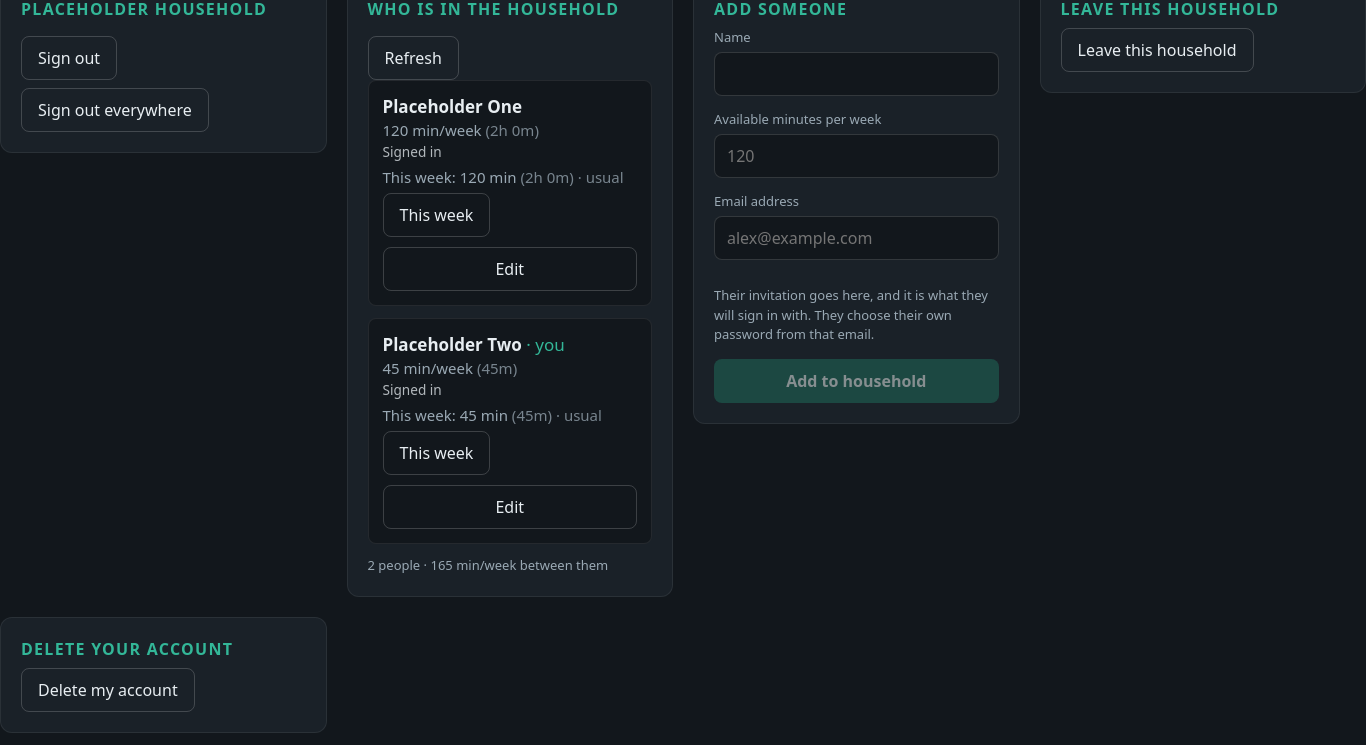
Test case: deleting your account from the Who tab (#432) › touches nothing on the first tap, and says when the sign-in goes
The image size is (1366, 745).
Click the button "Delete my account" at (108, 690), box left=21, top=668, right=195, bottom=712
(page scrolled)
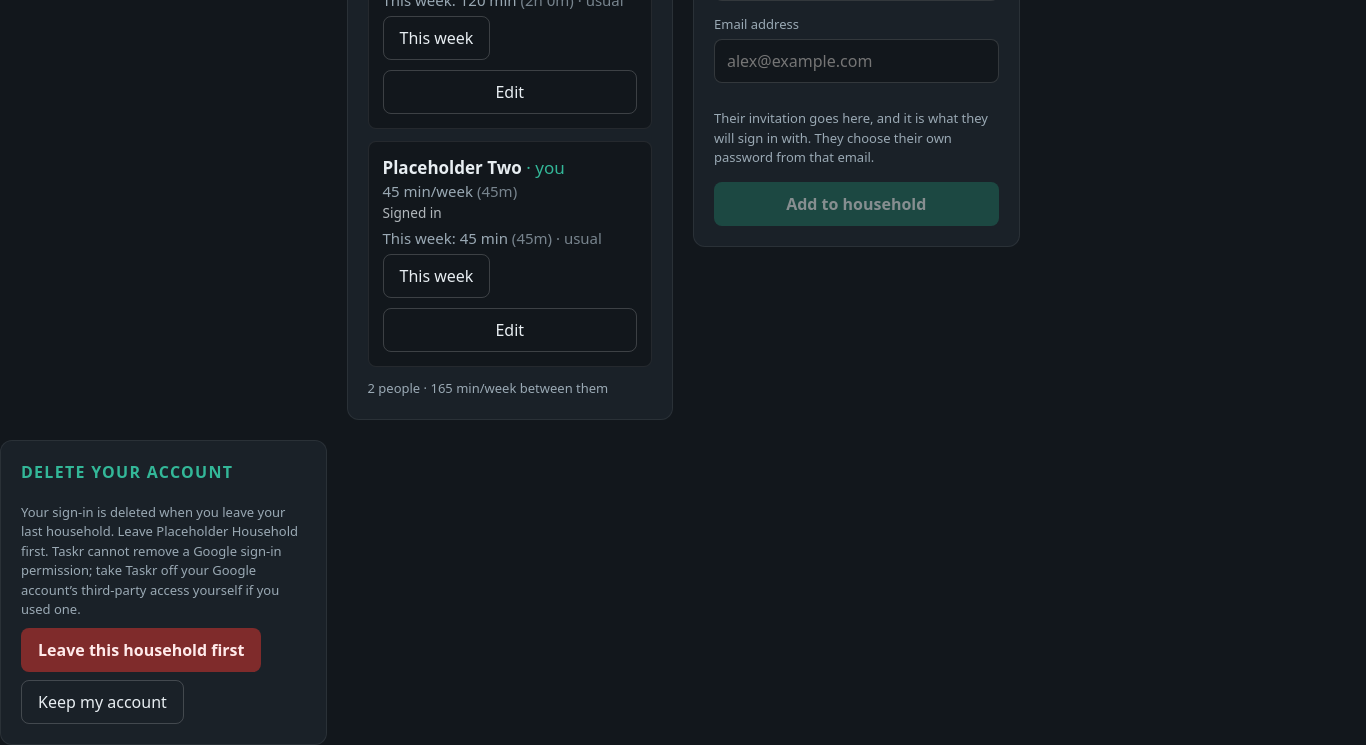
Result: the text with test id "delete-account-note" shows "Your sign-in is deleted when you leave your last household." at left=21, top=502, right=306, bottom=620
Result: the text with test id "delete-account-note" shows "leave placeholder household first" at left=21, top=522, right=298, bottom=560
Result: the text with test id "delete-account-note" shows "taskr cannot remove a google sign-in permission" at left=21, top=542, right=282, bottom=618
